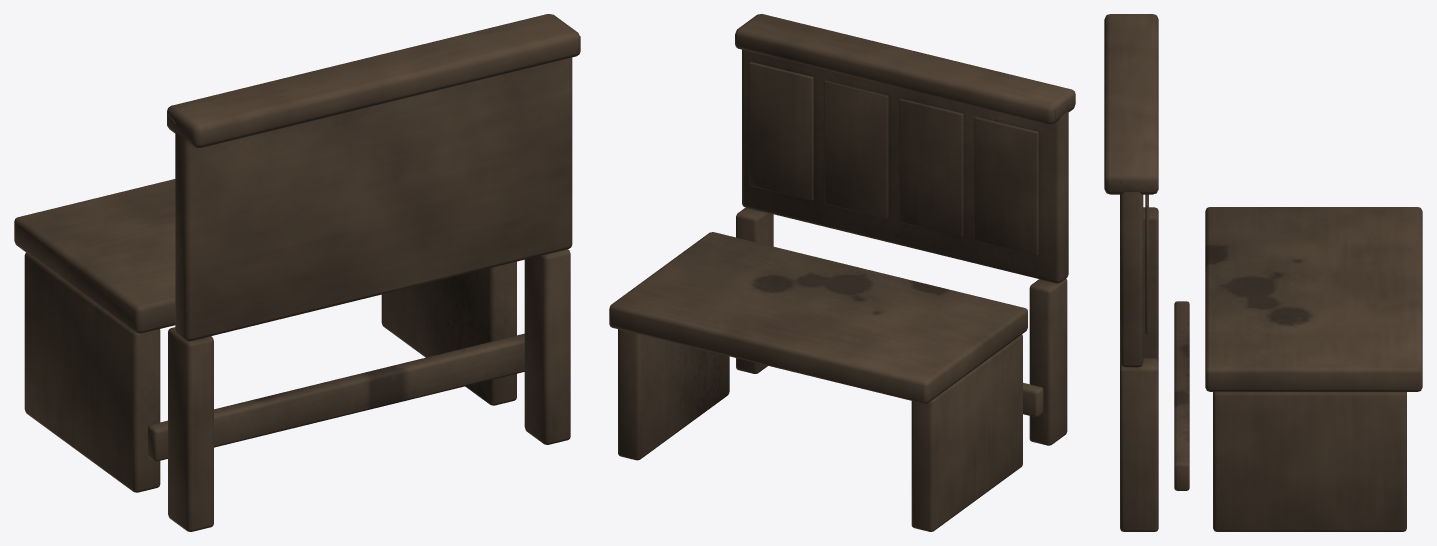
Rendered from crypt_pew.obj.
3 views of the same model, side by side, from view 1: azimuth 30°, elevation 25°; view 2: azimuth 150°, elevation 25°; view 3: azimuth 270°, elevation 25° (orthographic). The views are drawn at different scales.
Parts seen in each view (by area): view 1: part0, part1; view 2: part0, part1; view 3: part0, part1.
Boxes of the visible parts, x1,y1,x2,y2 form: part0: (14, 14, 580, 461); part1: (24, 249, 570, 531); part0: (609, 14, 1075, 417); part1: (618, 62, 1067, 531); part0: (1104, 14, 1422, 490); part1: (1120, 194, 1406, 531).
Size of the model in its own units: 1 by 1.02 by 0.82.
